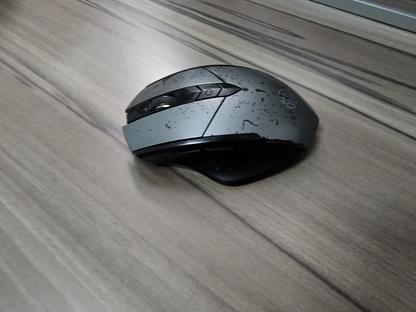mouse: (121, 63, 320, 187)
